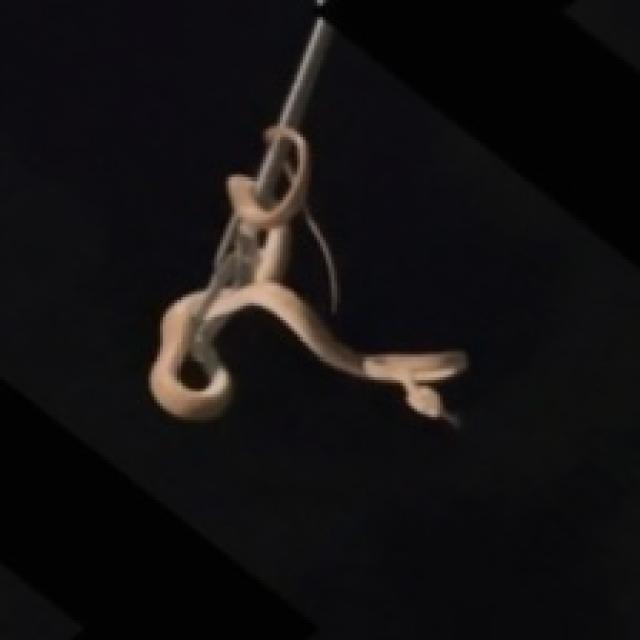philippine cat snake: (149, 14, 466, 423), (149, 123, 466, 423)
